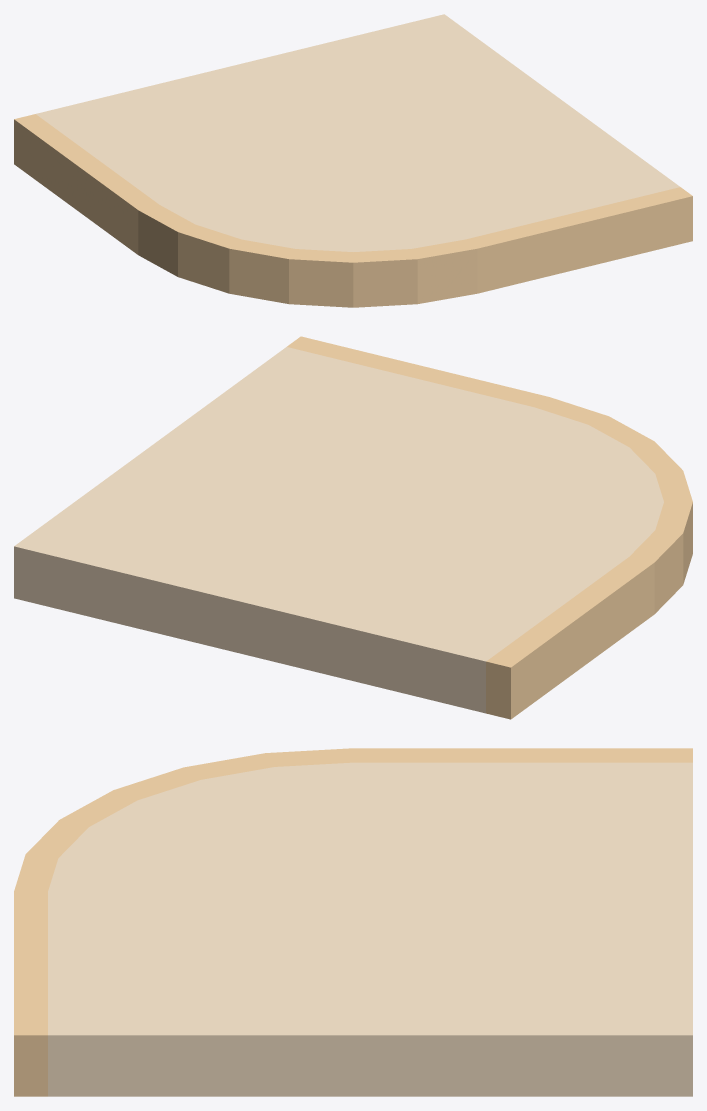
The model's file is BanquetaEsquina.obj.
3 renders of one model, top to bottom at view 1: azimuth 30°, elevation 25°; view 2: azimuth 150°, elevation 25°; view 3: azimuth 270°, elevation 25°, orthographic. The views are drawn at different scales.
Parts seen in each view (by area): view 1: Cube.001; view 2: Cube.001; view 3: Cube.001.
Boxes of the visible parts, x1,y1,x2,y2 form: Cube.001: (14,14,692,307); Cube.001: (14,336,692,719); Cube.001: (14,748,692,1096).
Size of the model in its own units: 2 by 0.2 by 2.
